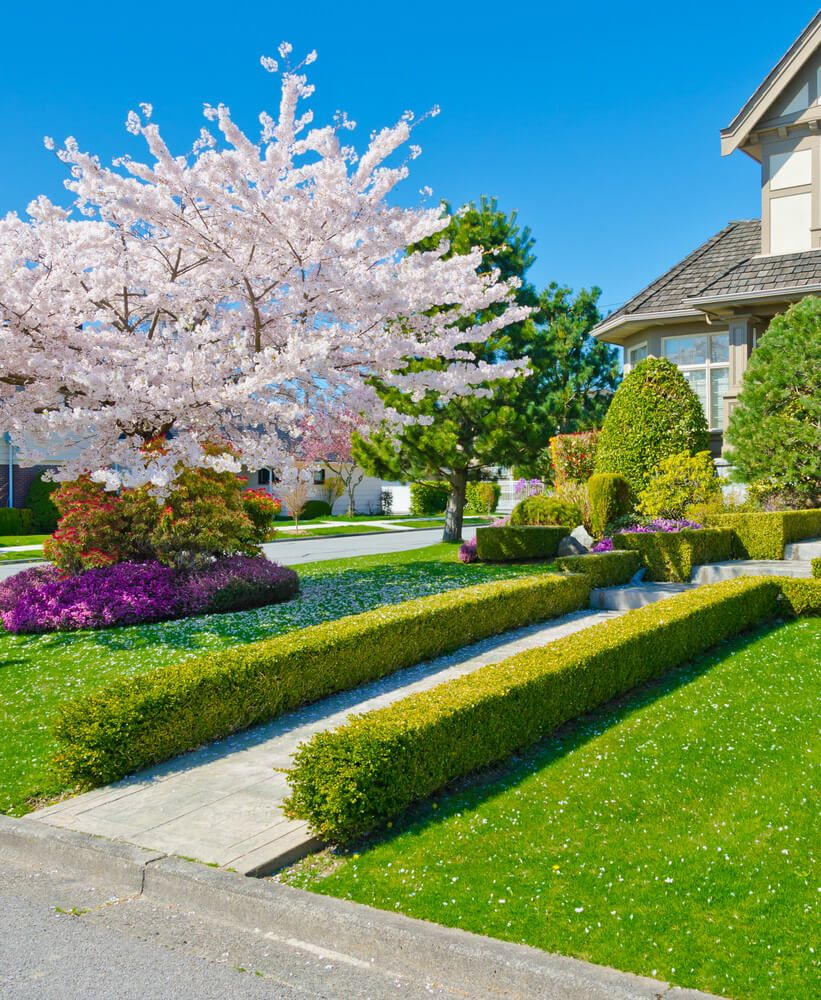bush: (334, 565, 778, 833), (59, 582, 609, 747)
tree: (18, 107, 486, 542), (366, 212, 596, 543)
